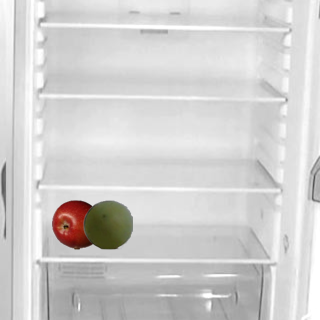Apple Braeburn: (51, 199, 101, 249)
Grape White 4: (82, 199, 132, 249)
